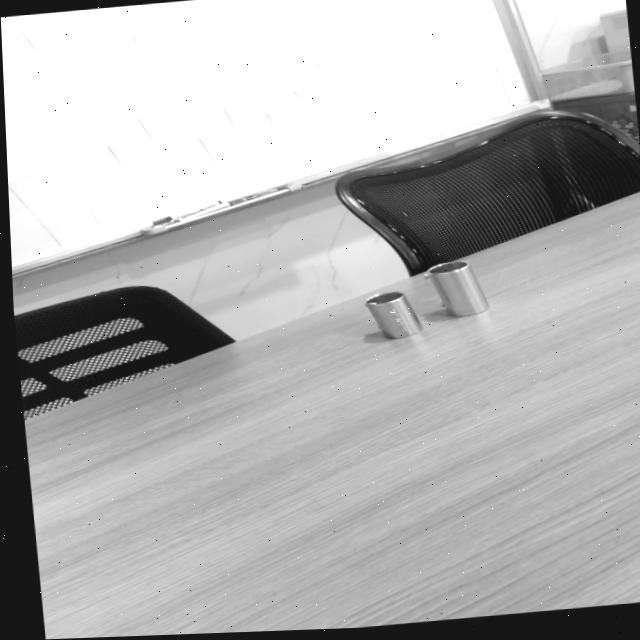Co_Lon: (422, 251, 490, 327)
Co_Nho: (363, 281, 424, 348)
